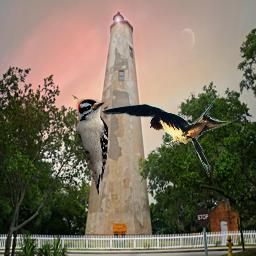Swallow: (99, 97, 252, 177)
Woodpecker: (74, 99, 108, 196)
